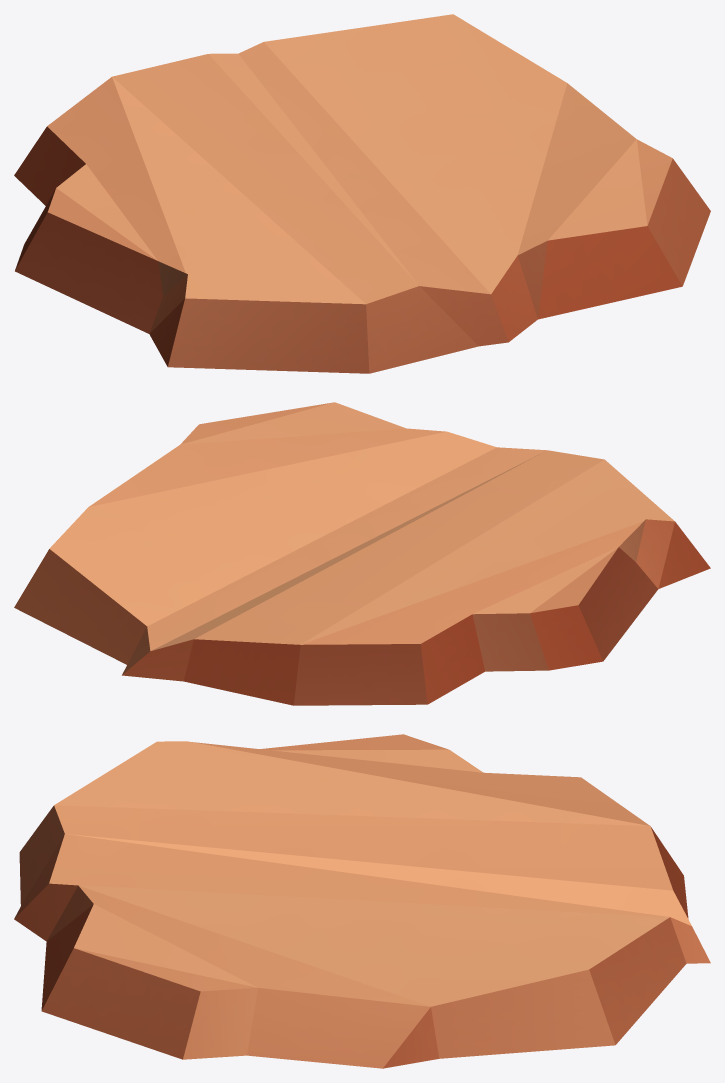
Rendered from DesertPlatform_01.fbx.
The picture shows the model from 3 angles, top to bottom: view 1: azimuth 30°, elevation 25°; view 2: azimuth 150°, elevation 25°; view 3: azimuth 270°, elevation 25°; orthographic projection. The views are drawn at different scales.
Visible parts, largest first — view 1: DesertPlatform_01; view 2: DesertPlatform_01; view 3: DesertPlatform_01.
Boxes of the visible parts, left/top/right/bottom form: DesertPlatform_01: left=14, top=14, right=710, bottom=373; DesertPlatform_01: left=14, top=402, right=710, bottom=705; DesertPlatform_01: left=14, top=734, right=710, bottom=1068.
Size of the model in its own units: 2860 by 284 by 2852.
